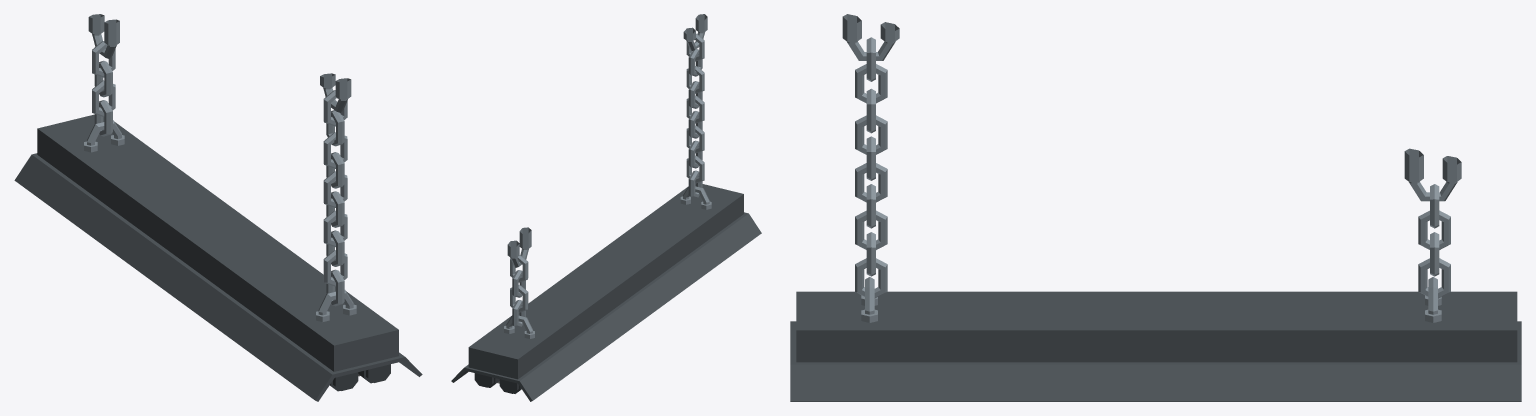
File: SM_Prop_LightsAngle_01.fbx
3 views of the same model, side by side, from view 1: azimuth 30°, elevation 25°; view 2: azimuth 150°, elevation 25°; view 3: azimuth 270°, elevation 25° (orthographic). The views are drawn at different scales.
Visible parts, largest first — view 1: SM_Prop_LightsAngle_01; view 2: SM_Prop_LightsAngle_01; view 3: SM_Prop_LightsAngle_01.
Part boxes in pixels (bbox=[...]): SM_Prop_LightsAngle_01: bbox=[14, 14, 422, 401]; SM_Prop_LightsAngle_01: bbox=[451, 14, 761, 401]; SM_Prop_LightsAngle_01: bbox=[790, 14, 1521, 401].
Bounding box in the file's own units: 50.73 × 134 × 246.
